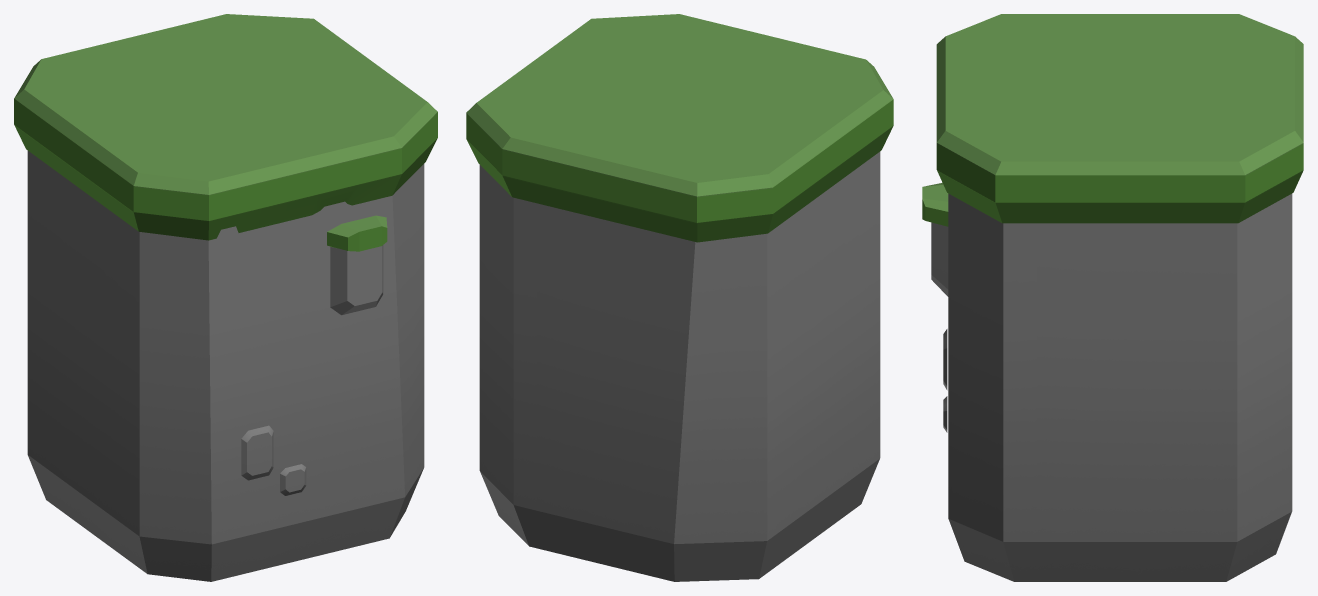
The model's file is Dino_RockCLiff_B.fbx.
The picture shows the model from 3 angles, left to right: view 1: azimuth 30°, elevation 25°; view 2: azimuth 150°, elevation 25°; view 3: azimuth 270°, elevation 25°; orthographic projection. The views are drawn at different scales.
Parts seen in each view (by area): view 1: Dino_RockCLiff_B_mesh; view 2: Dino_RockCLiff_B_mesh; view 3: Dino_RockCLiff_B_mesh.
Part boxes in pixels (x1=…): Dino_RockCLiff_B_mesh: x1=14, y1=14, x2=437, y2=581; Dino_RockCLiff_B_mesh: x1=466, y1=14, x2=893, y2=581; Dino_RockCLiff_B_mesh: x1=922, y1=14, x2=1303, y2=581.
Bounding box in the file's own units: 34.65 × 44.62 × 36.03.
